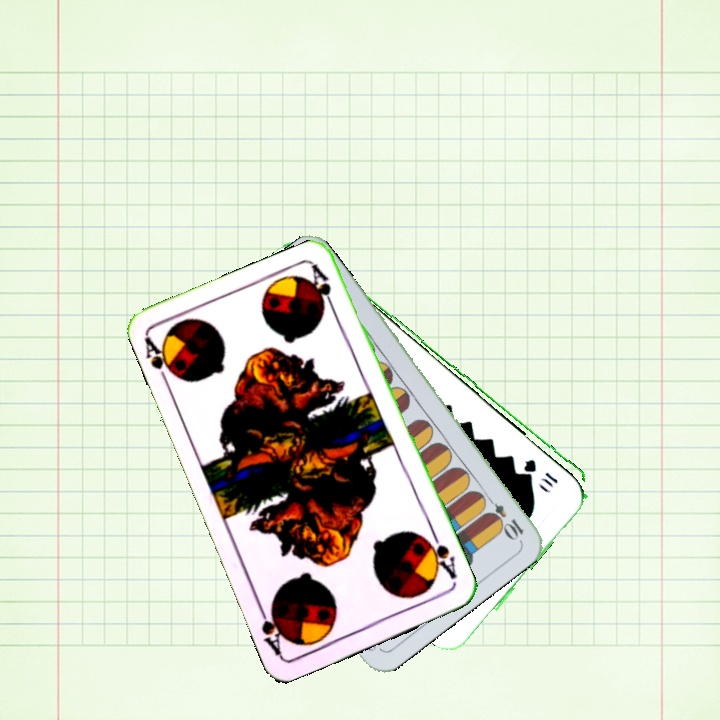E10: (480, 491, 527, 542)
G10: (521, 454, 561, 486)
SA: (140, 333, 183, 390), (420, 529, 460, 586)
